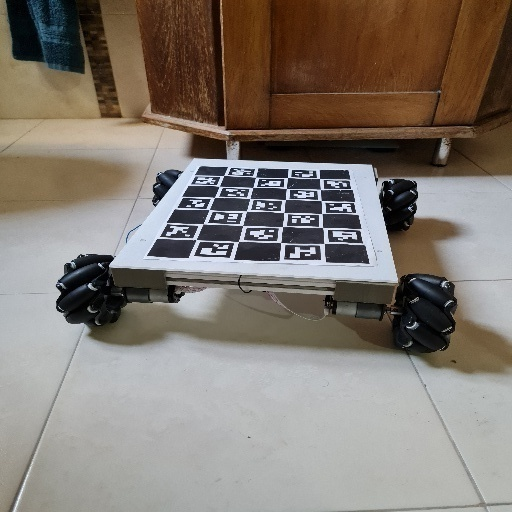Omniwheel: (56, 156, 457, 357)
